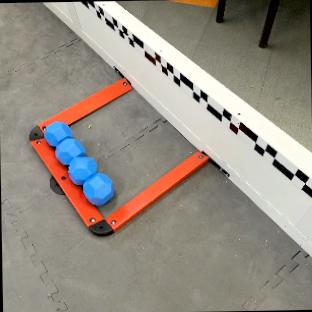V5_BLUE: (83, 173, 113, 204), (68, 155, 97, 184), (54, 138, 84, 163), (44, 121, 70, 145)
redloader: (44, 122, 113, 204)
